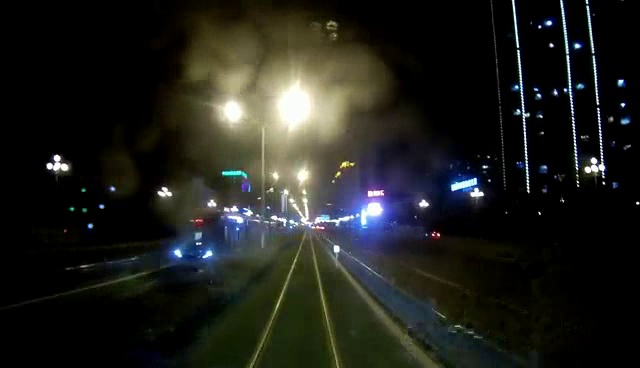train: (174, 216, 280, 262)
